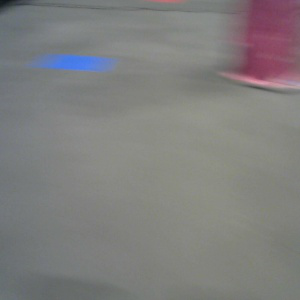Right: (217, 1, 300, 92)
